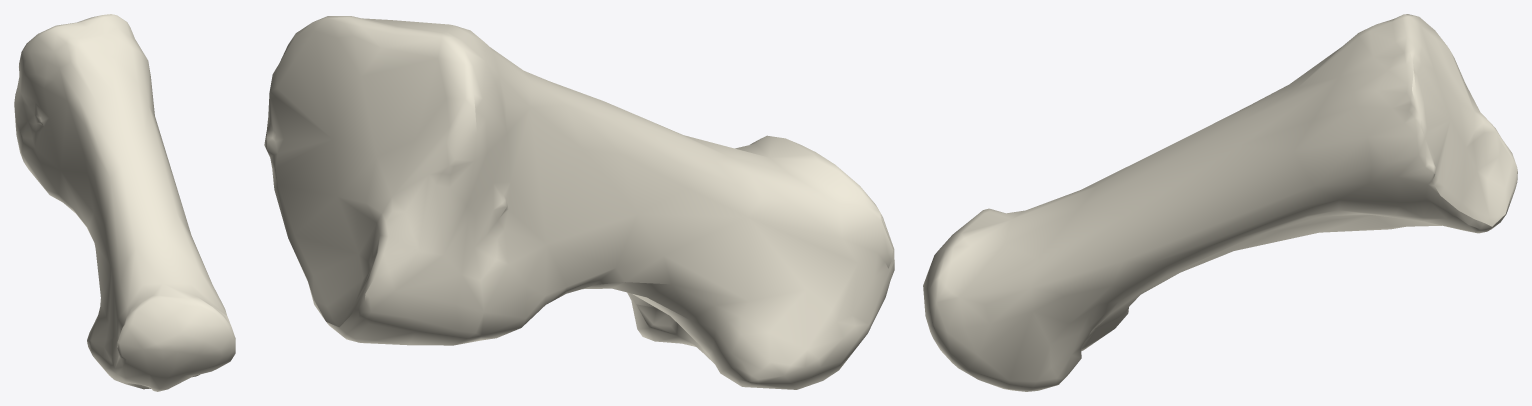
File: fma24507_fj3351.glb
3 renders of one model, left to right at view 1: azimuth 30°, elevation 25°; view 2: azimuth 150°, elevation 25°; view 3: azimuth 270°, elevation 25°, orthographic. The views are drawn at different scales.
Parts seen in each view (by area): view 1: FMA24507_FJ3351; view 2: FMA24507_FJ3351; view 3: FMA24507_FJ3351.
Boxes of the visible parts, bbox=[...] form: FMA24507_FJ3351: bbox=[14, 14, 235, 391]; FMA24507_FJ3351: bbox=[264, 16, 894, 389]; FMA24507_FJ3351: bbox=[923, 14, 1517, 391].
Bounding box in the file's own units: 0.0296 × 0.0432 × 0.0622.
